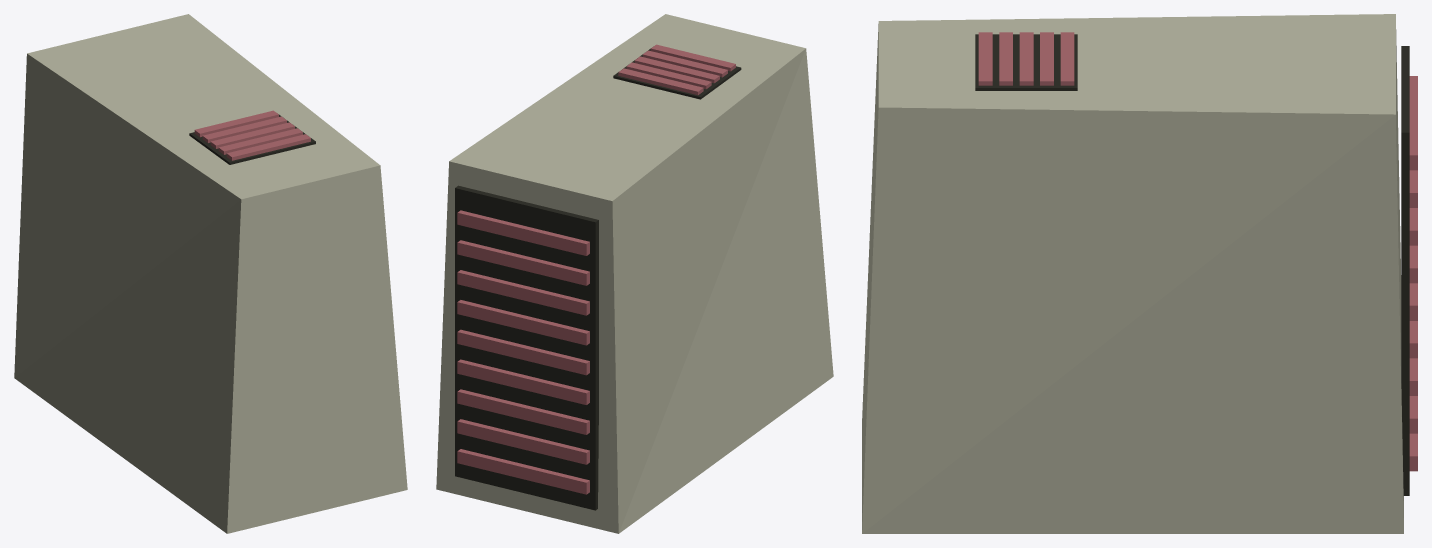
File: vge_mech_stabilizer.obj
3 renders of one model, left to right at view 1: azimuth 30°, elevation 25°; view 2: azimuth 150°, elevation 25°; view 3: azimuth 270°, elevation 25°, orthographic. The views are drawn at different scales.
Visible parts, largest first — view 1: vge_mech_stabilizer_0, vge_mech_stabilizer_12, vge_mech_stabilizer_16, vge_mech_stabilizer_13, vge_mech_stabilizer_14, vge_mech_stabilizer_15, vge_mech_stabilizer_11; view 2: vge_mech_stabilizer_0, vge_mech_stabilizer_1, vge_mech_stabilizer_2, vge_mech_stabilizer_6, vge_mech_stabilizer_9, vge_mech_stabilizer_3, vge_mech_stabilizer_8, vge_mech_stabilizer_4, vge_mech_stabilizer_5, vge_mech_stabilizer_7, vge_mech_stabilizer_10, vge_mech_stabilizer_16 (+5 smaller); view 3: vge_mech_stabilizer_0, vge_mech_stabilizer_1, vge_mech_stabilizer_11, vge_mech_stabilizer_10, vge_mech_stabilizer_12, vge_mech_stabilizer_14, vge_mech_stabilizer_16, vge_mech_stabilizer_13, vge_mech_stabilizer_15.
Part boxes in pixels (left/top/right/bottom): vge_mech_stabilizer_0: left=14, top=14, right=407, bottom=533; vge_mech_stabilizer_12: left=226, top=134, right=310, bottom=160; vge_mech_stabilizer_16: left=194, top=110, right=278, bottom=137; vge_mech_stabilizer_13: left=218, top=128, right=302, bottom=154; vge_mech_stabilizer_14: left=210, top=122, right=294, bottom=148; vge_mech_stabilizer_15: left=202, top=116, right=286, bottom=142; vge_mech_stabilizer_11: left=189, top=114, right=315, bottom=164; vge_mech_stabilizer_0: left=436, top=14, right=833, bottom=533; vge_mech_stabilizer_1: left=455, top=185, right=598, bottom=510; vge_mech_stabilizer_2: left=457, top=449, right=589, bottom=494; vge_mech_stabilizer_6: left=457, top=329, right=589, bottom=375; vge_mech_stabilizer_9: left=457, top=240, right=589, bottom=285; vge_mech_stabilizer_3: left=457, top=419, right=589, bottom=464; vge_mech_stabilizer_8: left=457, top=270, right=589, bottom=315; vge_mech_stabilizer_4: left=457, top=389, right=589, bottom=434; vge_mech_stabilizer_5: left=457, top=359, right=589, bottom=404; vge_mech_stabilizer_7: left=457, top=300, right=589, bottom=345; vge_mech_stabilizer_10: left=457, top=210, right=589, bottom=255; vge_mech_stabilizer_16: left=618, top=68, right=703, bottom=95; vge_mech_stabilizer_0: left=862, top=14, right=1403, bottom=533; vge_mech_stabilizer_1: left=1401, top=46, right=1409, bottom=495; vge_mech_stabilizer_11: left=975, top=34, right=1077, bottom=90; vge_mech_stabilizer_10: left=1409, top=76, right=1417, bottom=170; vge_mech_stabilizer_12: left=978, top=32, right=992, bottom=85; vge_mech_stabilizer_14: left=1019, top=32, right=1033, bottom=85; vge_mech_stabilizer_16: left=1060, top=32, right=1074, bottom=85; vge_mech_stabilizer_13: left=999, top=32, right=1012, bottom=85; vge_mech_stabilizer_15: left=1040, top=32, right=1053, bottom=85.
Size of the model in its own units: 0.96 by 1.68 by 2.01.
